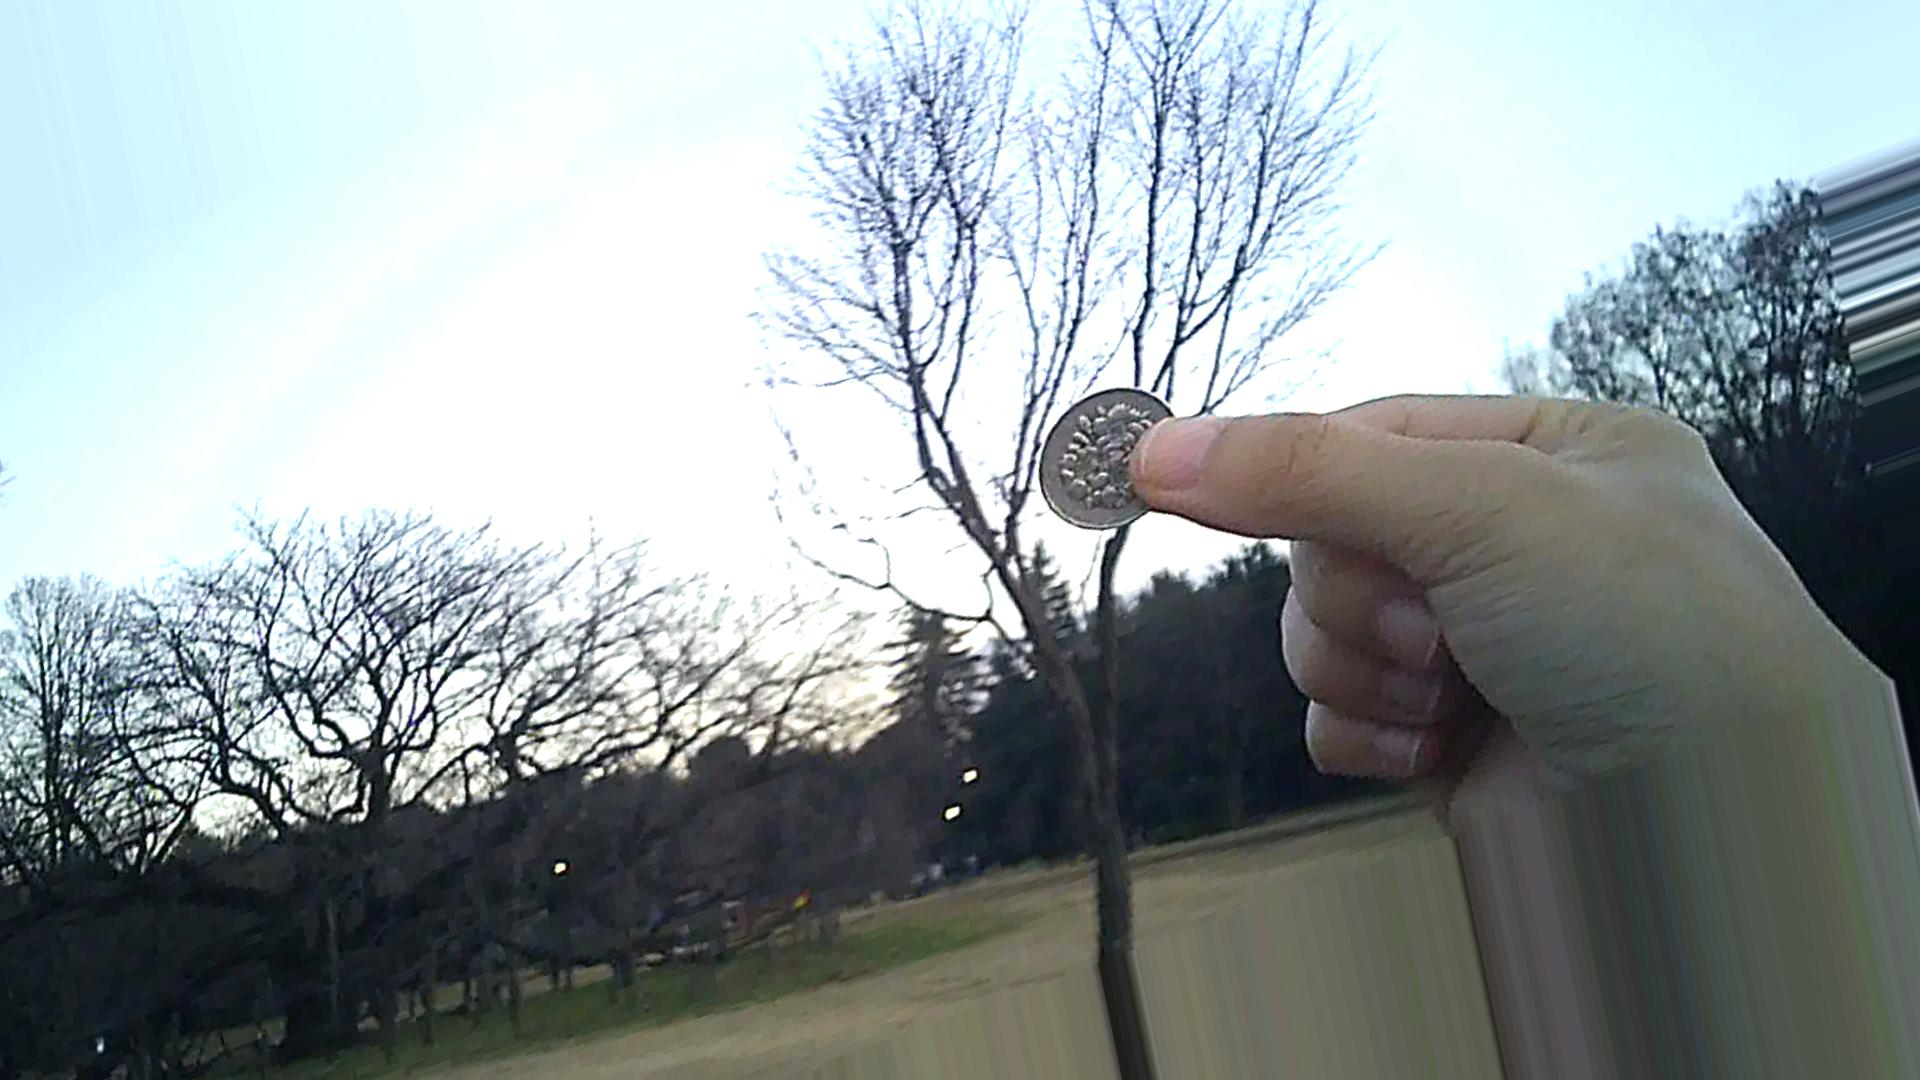100 Yen: (1029, 378, 1205, 553)
